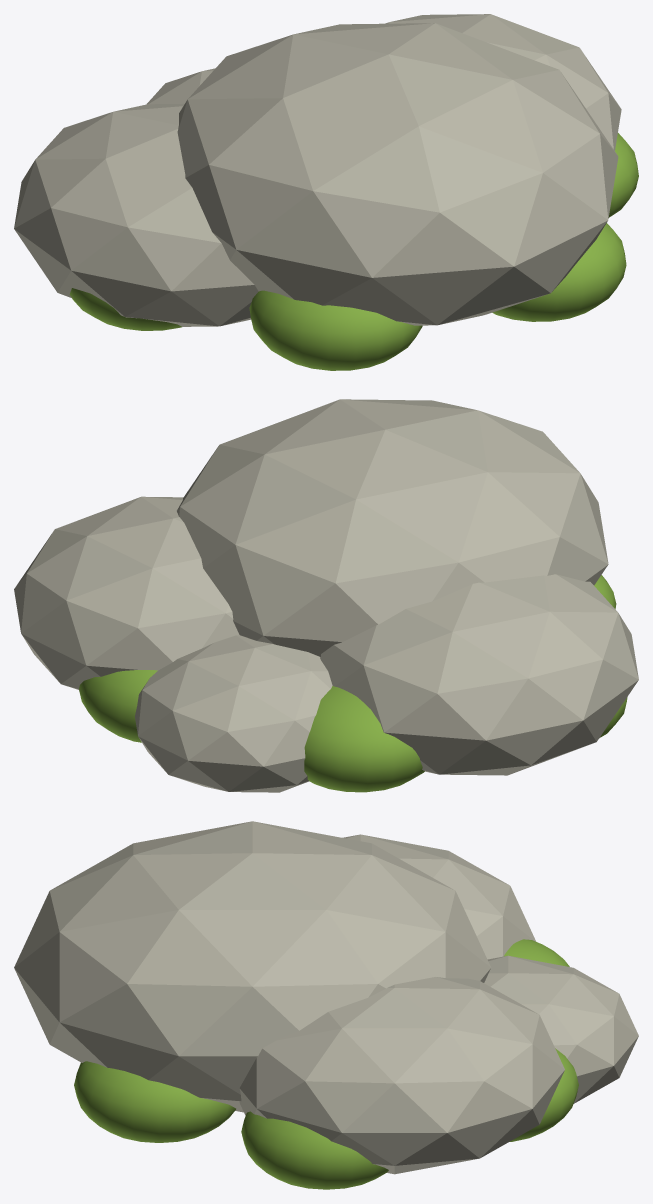
The model's file is ore_cooldown.fbx.
3 renders of one model, top to bottom at view 1: azimuth 30°, elevation 25°; view 2: azimuth 150°, elevation 25°; view 3: azimuth 270°, elevation 25°, orthographic. The views are drawn at different scales.
Parts seen in each view (by area): view 1: ore_cooldown; view 2: ore_cooldown; view 3: ore_cooldown.
Boxes of the visible parts, box(x1,y1,x2,y2) form: ore_cooldown: box(14, 14, 638, 370); ore_cooldown: box(14, 399, 638, 792); ore_cooldown: box(14, 821, 638, 1189).
Bounding box in the file's own units: 1.5 × 0.65 × 1.5.
1 material, 1 textured.
